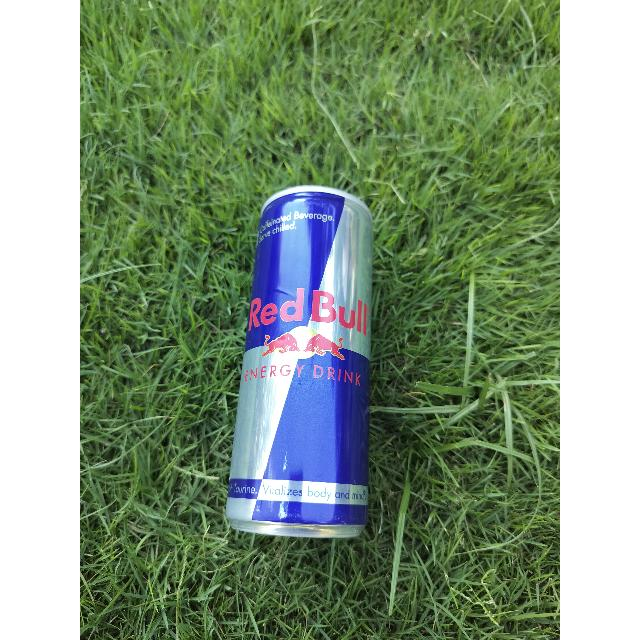Redbull: (227, 181, 377, 541)
